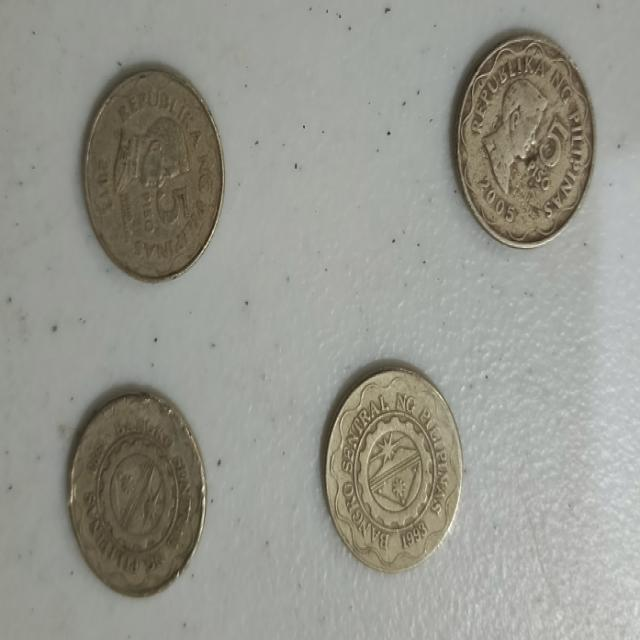5_peso: (84, 71, 223, 278), (456, 36, 593, 245), (70, 393, 206, 596), (326, 370, 461, 571)
